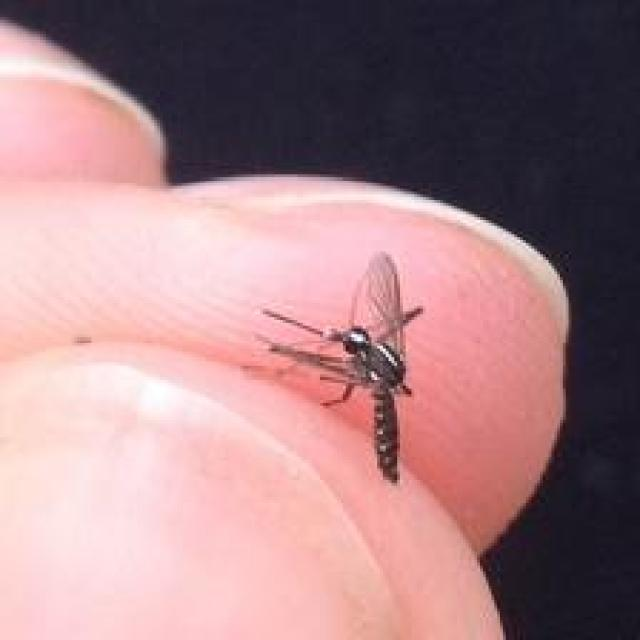Aedes albopictus: (254, 250, 426, 484)
